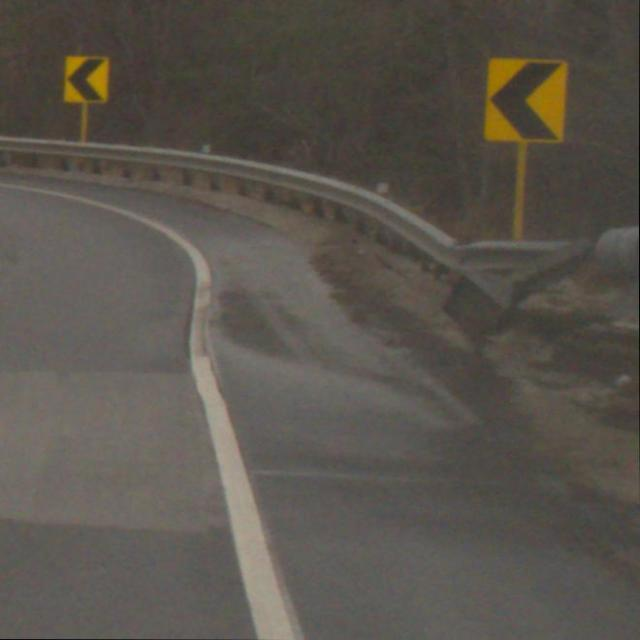Guard rail: (0, 130, 586, 276)
